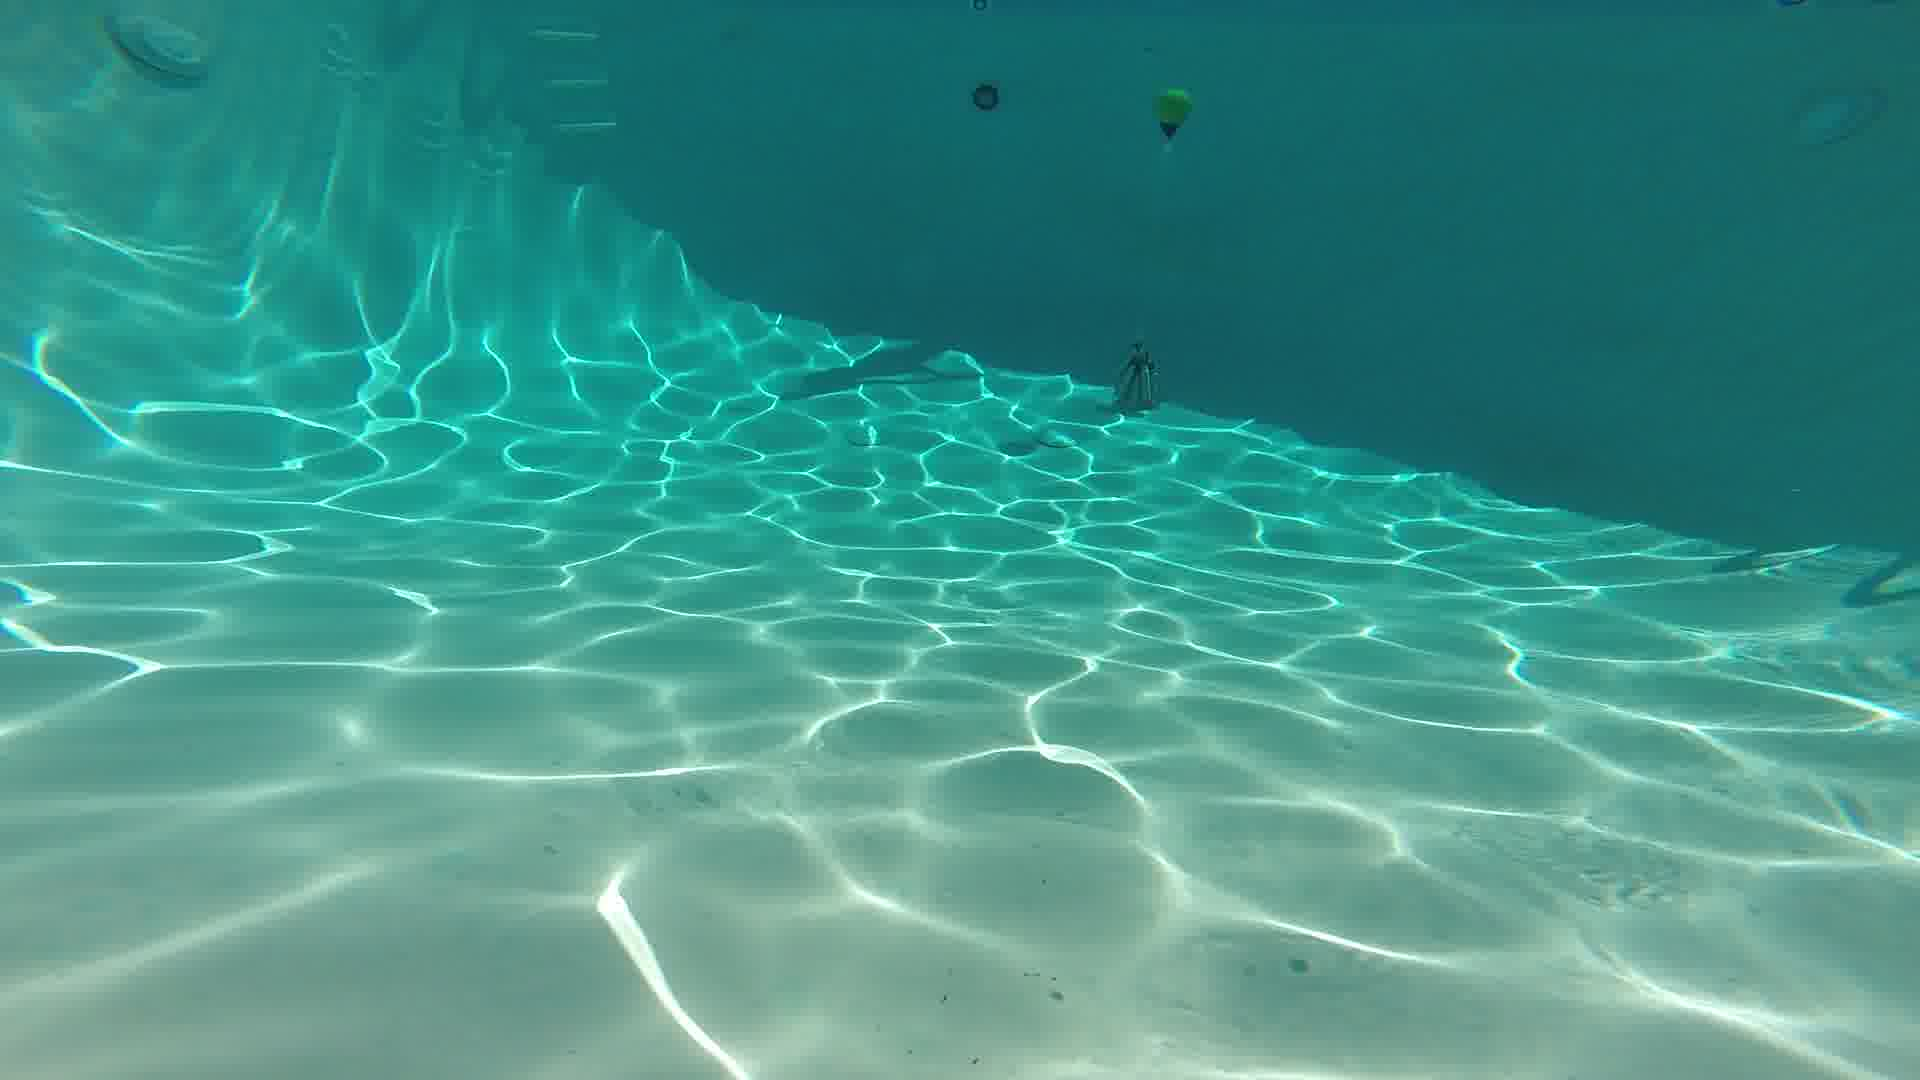yellow buoy: (1150, 78, 1195, 156)
